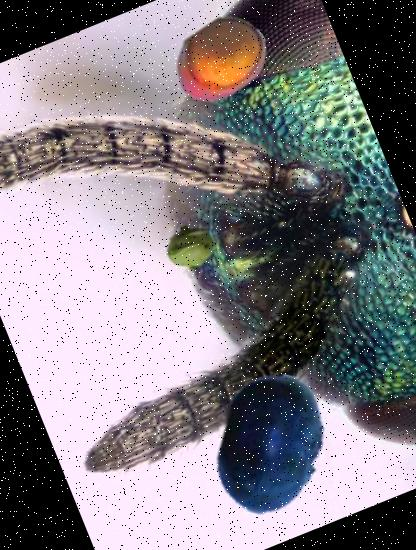Blueberry: (179, 351, 364, 536)
Hazelnut: (157, 0, 285, 123)
Kohlrabi: (158, 213, 226, 281)
